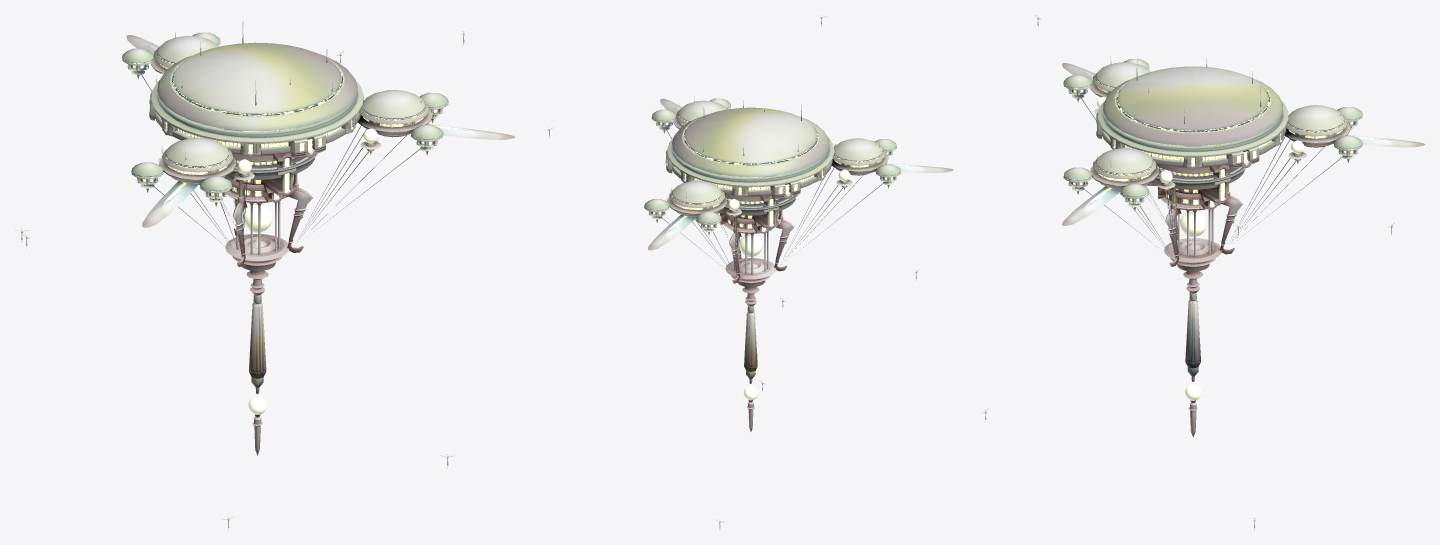
3 renders of one model, left to right at view 1: azimuth 30°, elevation 25°; view 2: azimuth 150°, elevation 25°; view 3: azimuth 270°, elevation 25°, orthographic. The views are drawn at different scales.
Visible parts, largest first — view 1: body; view 2: body; view 3: body.
Boxes of the visible parts, x1=… form: body: x1=14, y1=21, x2=515, y2=530; body: x1=544, y1=14, x2=953, y2=528; body: x1=982, y1=14, x2=1425, y2=530.
Size of the model in its own units: 10509 by 12555 by 9834.
4 materials, 4 textured.
